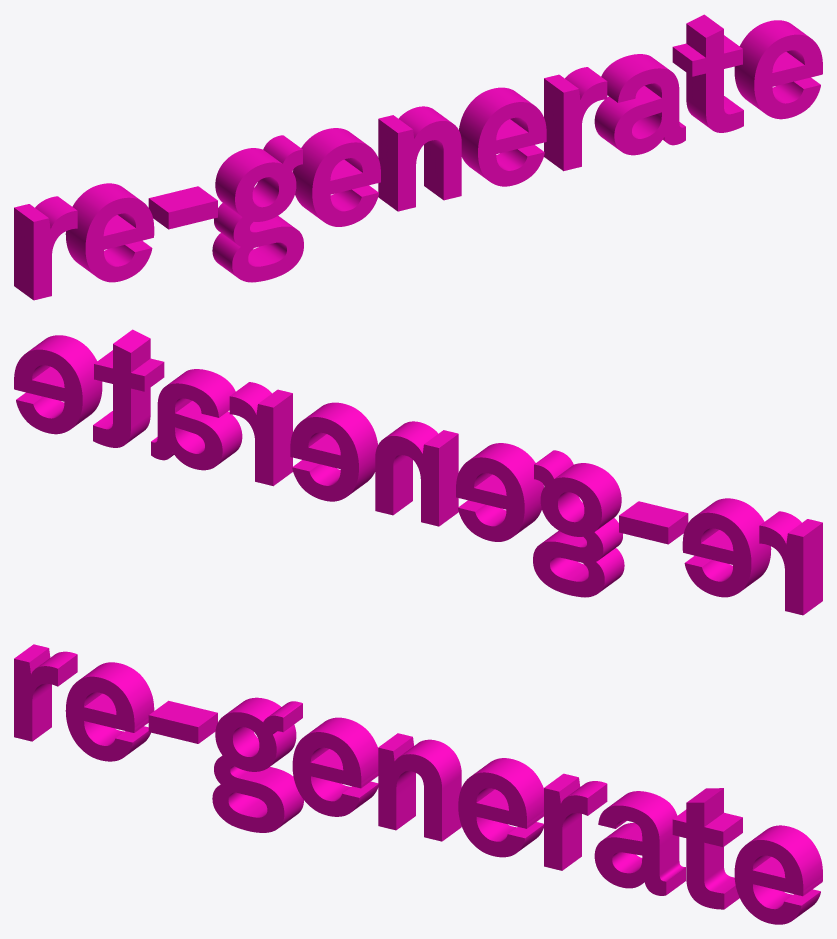
Rendered from REGENERATE.fbx.
The picture shows the model from 3 angles, top to bottom: view 1: azimuth 30°, elevation 25°; view 2: azimuth 150°, elevation 25°; view 3: azimuth 330°, elevation 25°; orthographic projection.
Parts seen in each view (by area): view 1: AR WORDS; view 2: AR WORDS; view 3: AR WORDS.
Boxes of the visible parts, x1,y1,x2,y2 form: AR WORDS: [14, 14, 822, 300]; AR WORDS: [14, 329, 822, 615]; AR WORDS: [14, 644, 822, 924].
Bounding box in the file's own units: 3.13 × 0.1354 × 0.5306.
